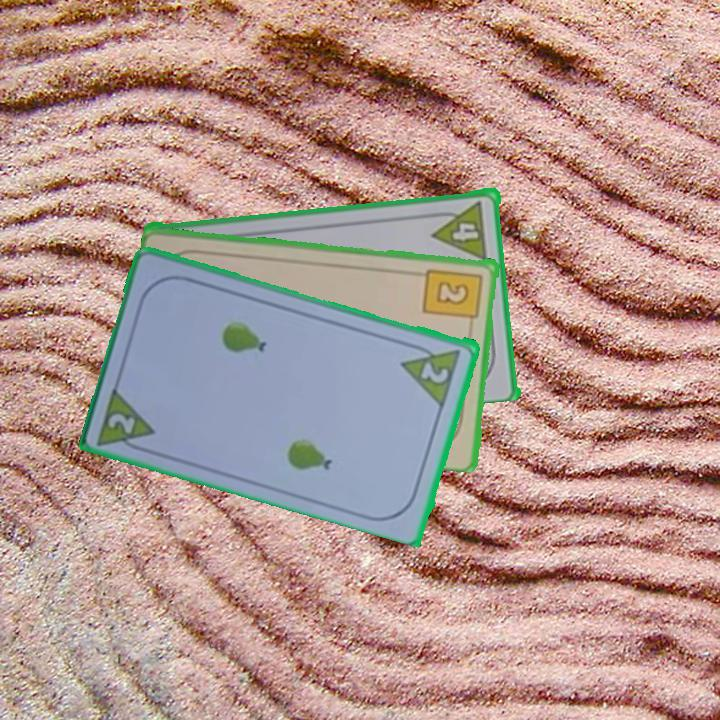2b: (421, 264, 486, 331)
2p: (398, 338, 464, 408), (104, 409, 139, 437)
4p: (431, 215, 486, 262)
